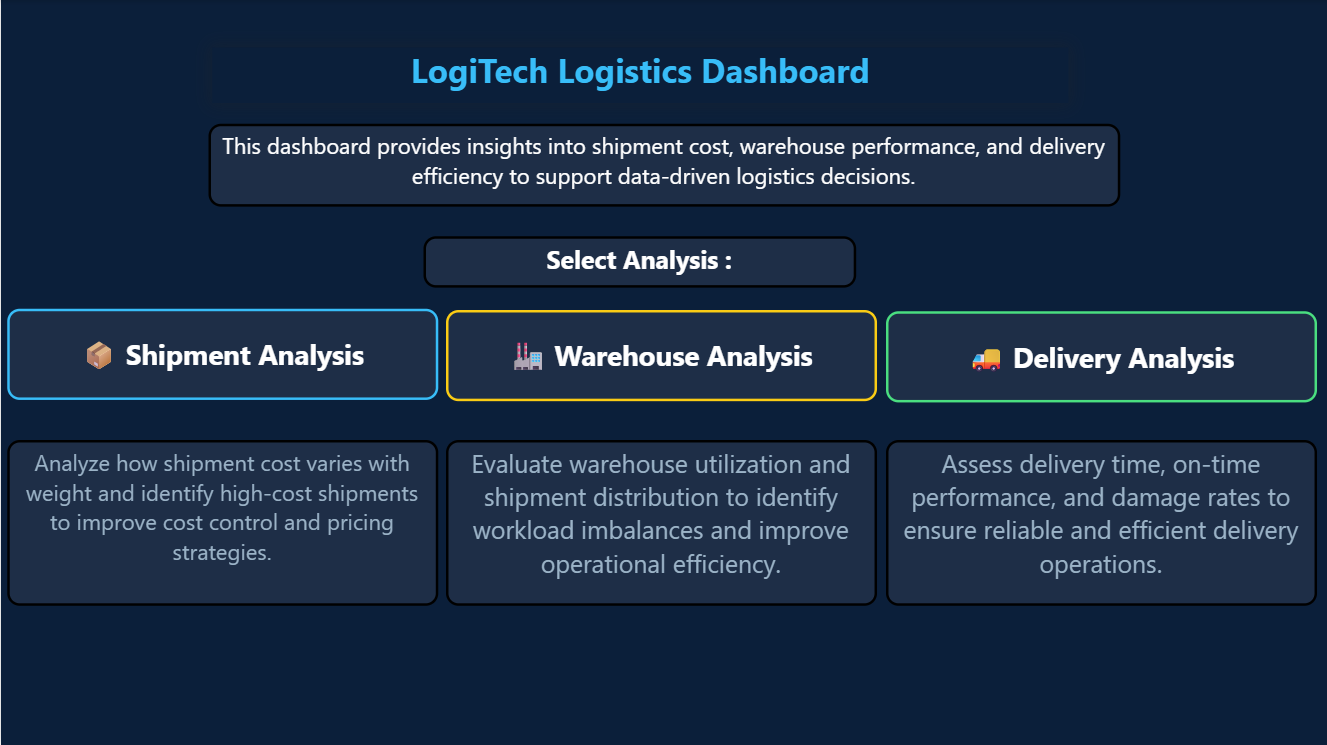

The page's visual inventory and layout, read from the dashboard file:
{"tool":"powerbi","page":{"name":"Home","canvas":[1280,720],"ordinal":0},"visuals":[{"type":"textbox","box":[203.9,46.1,826.4,53.2],"z":0},{"type":"textbox","box":[200.4,119.7,879.6,79.8],"z":1000},{"type":"actionButton","box":[5.9,298.5,416,88],"z":2000},{"type":"actionButton","box":[429.9,299.5,416,88],"z":3000},{"type":"actionButton","box":[853.9,300.5,416,87.8],"z":4000},{"type":"textbox","box":[407.9,228,417.6,49.7],"z":5000},{"type":"textbox","box":[6.2,424.7,415.9,159.6],"z":6000},{"type":"textbox","box":[430,424.7,415.9,159.6],"z":7000},{"type":"textbox","box":[853.9,424.7,415.9,159.6],"z":8000}]}

Visuals, with their boxes in screenshot pixels (x1, y1, x2, y2), scaled from the page's 1280x720 canvas onto the 1327x745 screenshot:
textbox: pyautogui.locateOnScreen(211, 48, 1068, 103)
textbox: pyautogui.locateOnScreen(208, 124, 1120, 206)
actionButton: pyautogui.locateOnScreen(6, 309, 437, 400)
actionButton: pyautogui.locateOnScreen(446, 310, 877, 401)
actionButton: pyautogui.locateOnScreen(885, 311, 1317, 402)
textbox: pyautogui.locateOnScreen(423, 236, 856, 287)
textbox: pyautogui.locateOnScreen(6, 439, 438, 605)
textbox: pyautogui.locateOnScreen(446, 439, 877, 605)
textbox: pyautogui.locateOnScreen(885, 439, 1316, 605)
